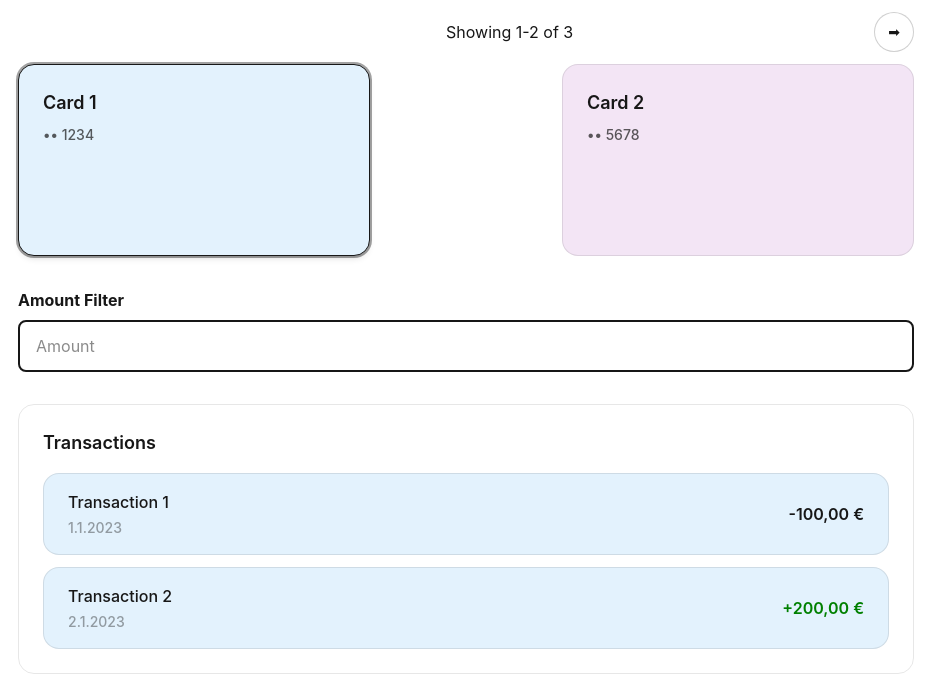
Scenario: Dashboard integration › selecting a card updates the transaction list and keeps consistent background
Expected: the text "Transaction 1" is shown, top-left (68, 490), bottom-right (169, 514)
What coordinates should you click on to do the following:
click the button "Card 2 •• 5678"
I would click on:
 (616, 102)
Its box is top-left (562, 64), bottom-right (914, 256).
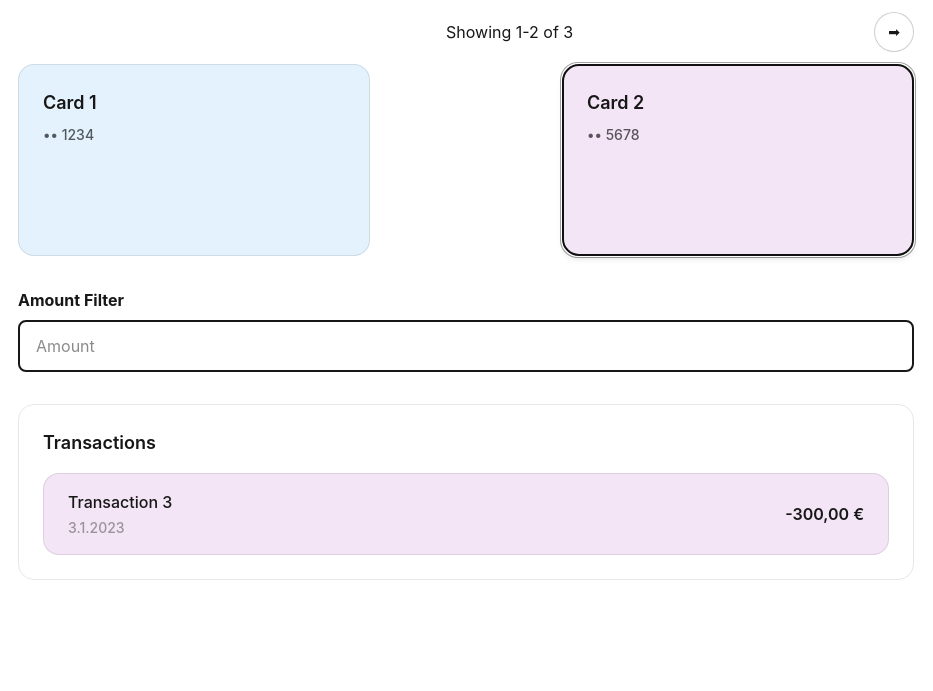
Result: the text "Transaction 1" is gone
Result: the text "Transaction 3" is shown at top-left (68, 490), bottom-right (172, 514)
